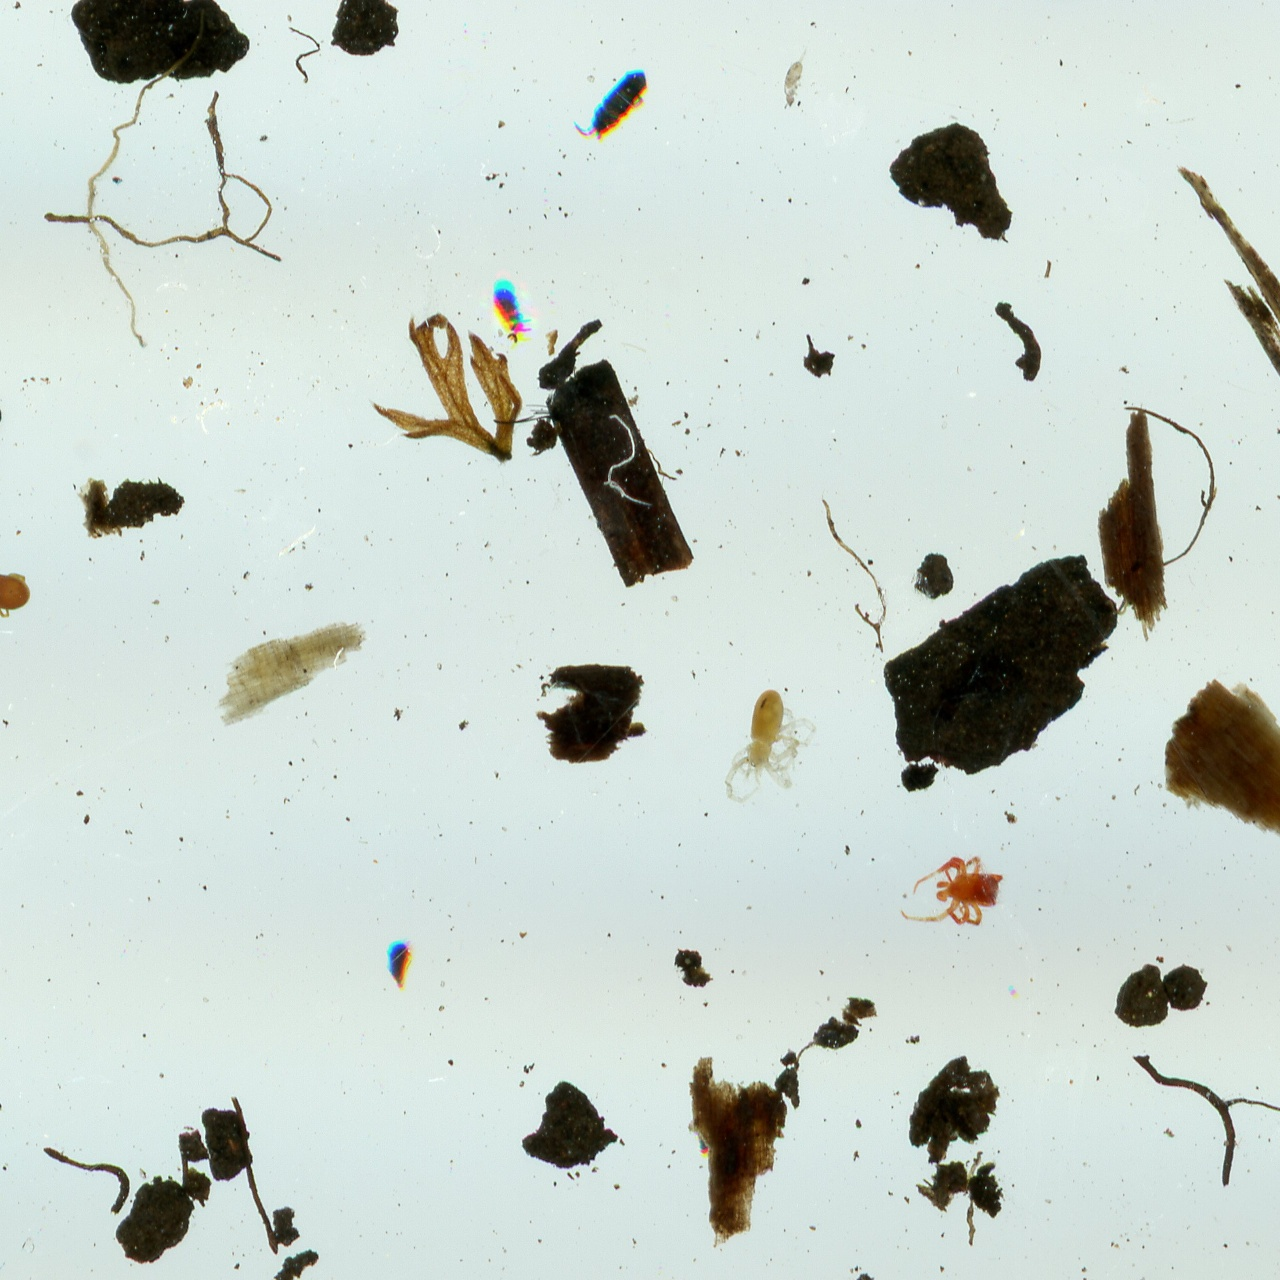arthropod: (719, 685, 822, 810), (565, 47, 664, 158), (897, 851, 1010, 929), (478, 272, 543, 354), (0, 552, 35, 623), (780, 40, 812, 114)
